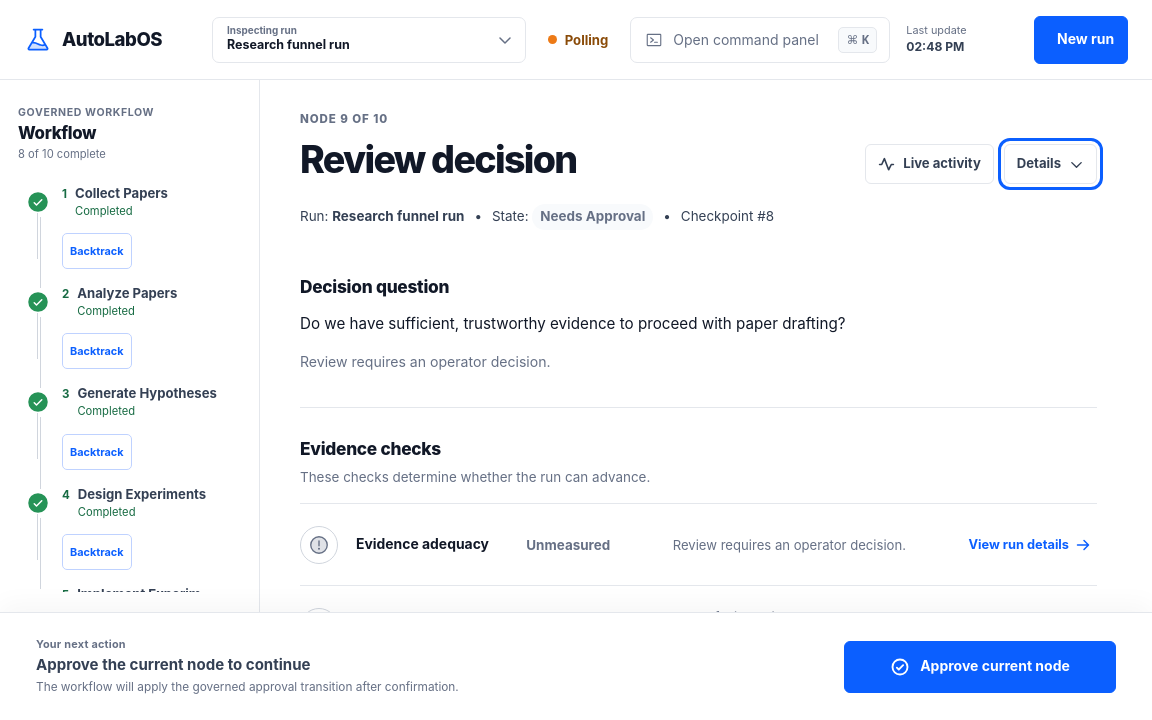
App › renders an authorized bounded probe without replacing the run scope
The width and height of the screenshot is (1152, 720).
Click the button "Details": point(1050, 164) [1004, 144, 1097, 184]
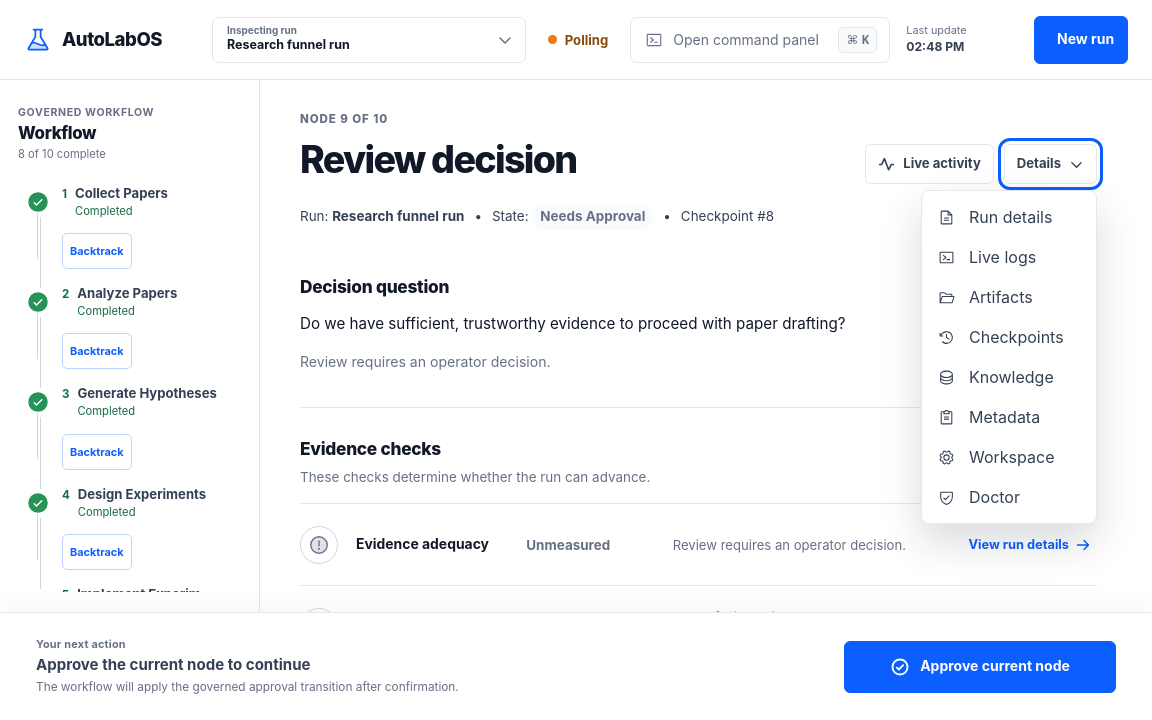
Click the button "Run details": point(1009, 217) [928, 197, 1090, 237]
(page scrolled)
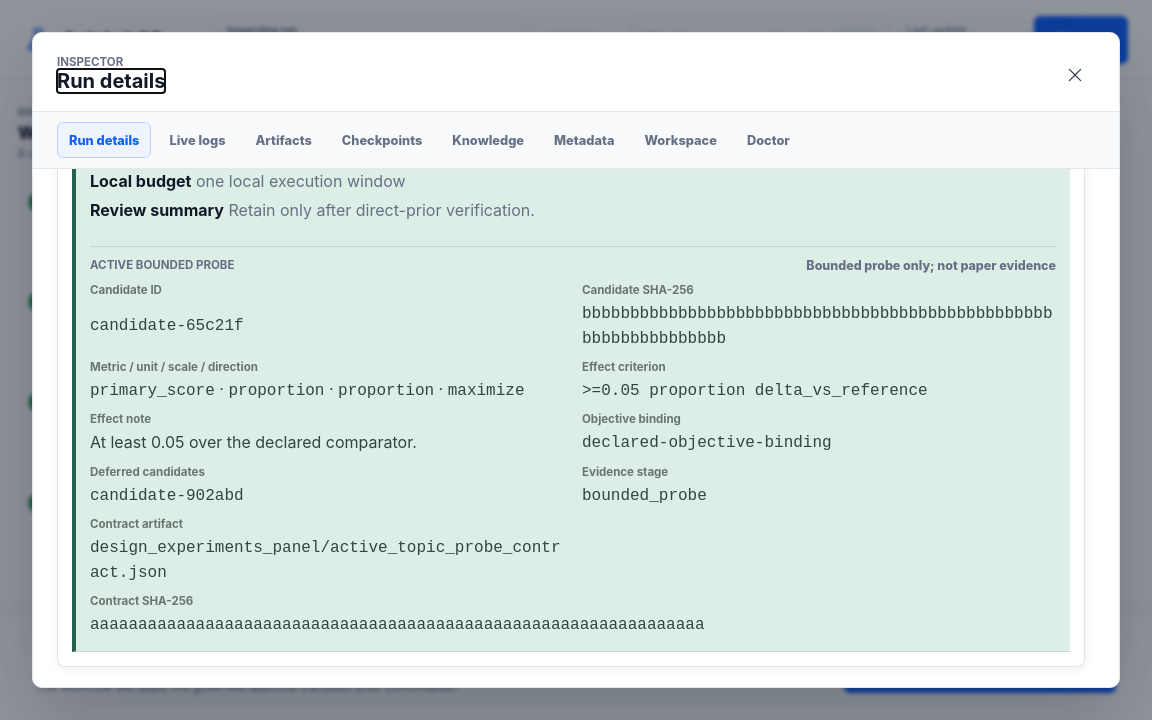
Expected: the text "Bounded probe only; not paper evidence" is shown, [806, 258, 1056, 273]
Expected: the text "candidate-65c21f" is shown, [90, 317, 244, 335]
Expected: the text "primary_score" is shown, [90, 382, 215, 400]
